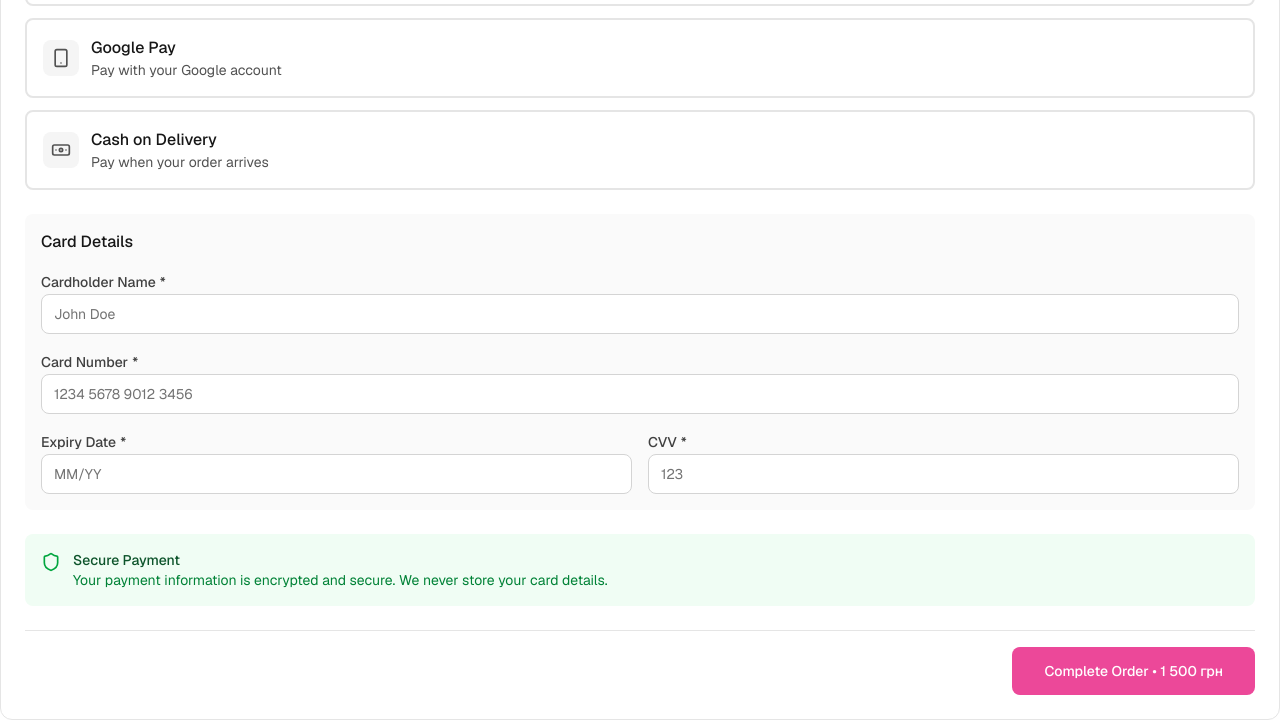
Scenario: PaymentForm › Card payment form › should format expiry date as MM/YY
(page scrolled)
In the field labelled "Expiry Date*": (336, 474) [41, 454, 632, 494], type "1225"
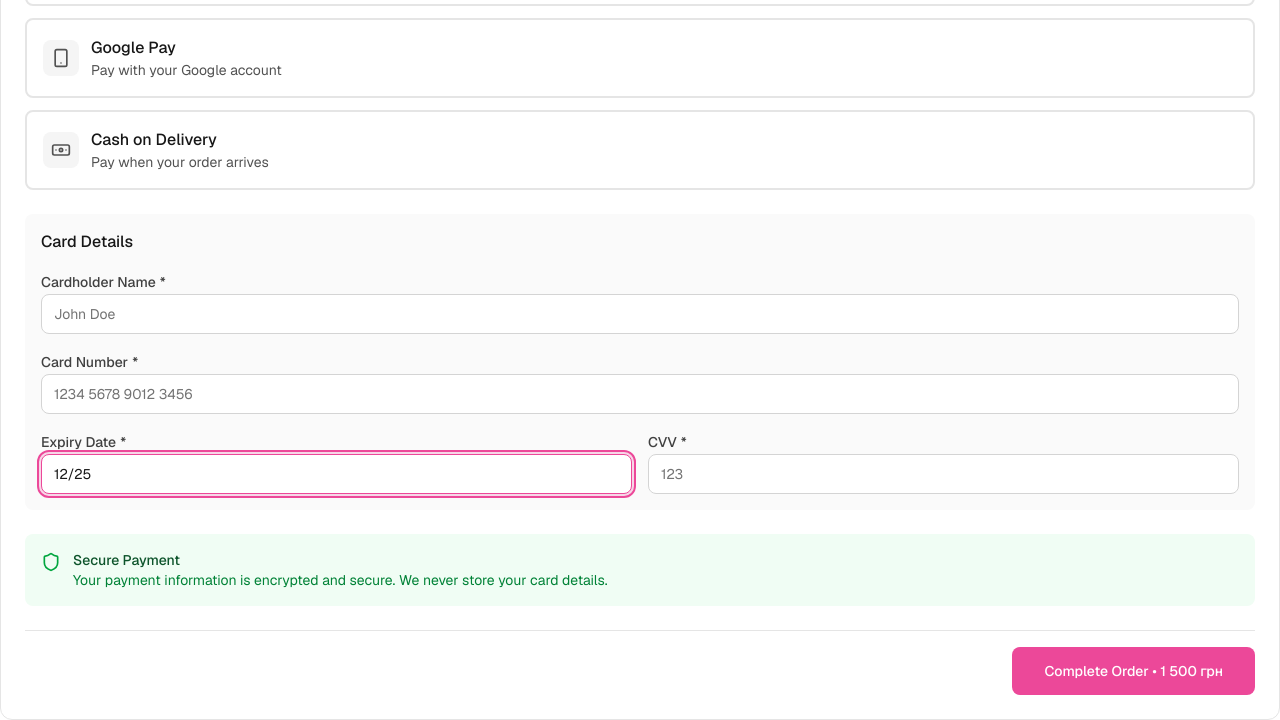
Expected: the field labelled "Expiry Date*" holds "12/25", [41, 454, 632, 494]
